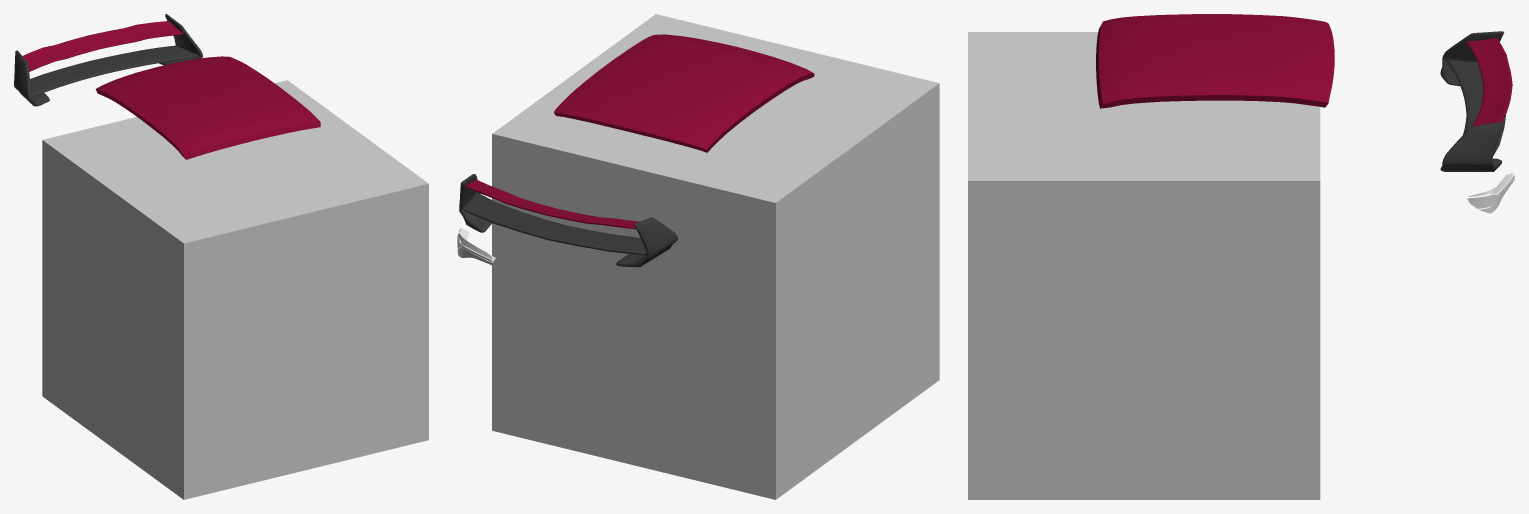
Rendered from sunburst.dae.
3 views of the same model, side by side, from view 1: azimuth 30°, elevation 25°; view 2: azimuth 150°, elevation 25°; view 3: azimuth 270°, elevation 25° (orthographic). The views are drawn at different scales.
Parts seen in each view (by area): view 1: Cube, sunburst_roof_sunvmc, sunburst_spoiler_Lvm1, sunburst_roof_plainvmc; view 2: Cube, sunburst_roof_sunvmc, sunburst_spoiler_Lvm1, sunburst_roof_plainvmc, sunburst_ledtaillight; view 3: Cube, sunburst_roof_sunvmc, sunburst_spoiler_Lvm1, sunburst_roof_plainvmc, sunburst_ledtaillight.
Boxes of the visible parts, left/top/right/bottom form: Cube: left=42, top=80, right=428, bottom=499; sunburst_roof_sunvmc: left=95, top=56, right=320, bottom=159; sunburst_spoiler_Lvm1: left=14, top=14, right=202, bottom=106; sunburst_roof_plainvmc: left=142, top=78, right=320, bottom=147; Cube: left=492, top=14, right=939, bottom=499; sunburst_roof_sunvmc: left=554, top=34, right=814, bottom=152; sunburst_spoiler_Lvm1: left=459, top=174, right=677, bottom=267; sunburst_roof_plainvmc: left=607, top=35, right=801, bottom=103; sunburst_ledtaillight: left=457, top=228, right=495, bottom=265; Cube: left=968, top=32, right=1320, bottom=499; sunburst_roof_sunvmc: left=1096, top=14, right=1334, bottom=108; sunburst_spoiler_Lvm1: left=1440, top=31, right=1512, bottom=171; sunburst_roof_plainvmc: left=1096, top=16, right=1258, bottom=106; sunburst_ledtaillight: left=1467, top=173, right=1514, bottom=213.
Bounding box in the file's own units: 2 × 3.11 × 2.37.
